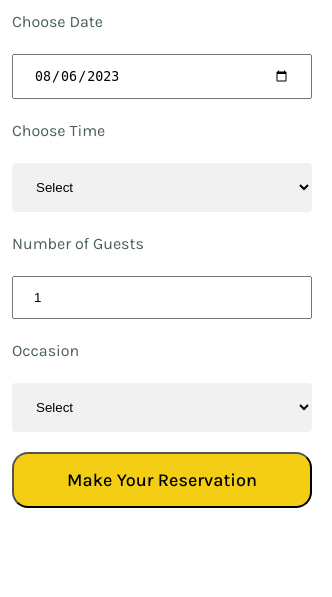
Test: Booking Form › should display an error message and disable sumbit button when number of     guests field's value is empty
The width and height of the screenshot is (332, 597).
Clear the number field labelled "Number of Guests" at [162, 298], box 12,276 -> 312,319
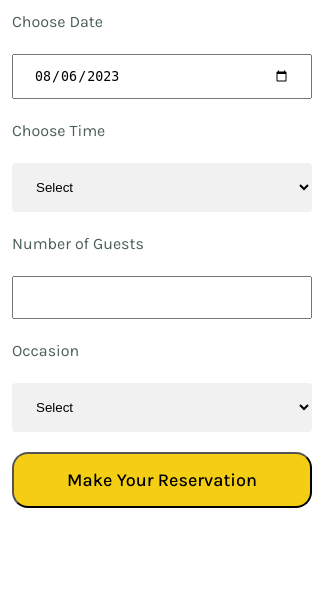
Leave the number field labelled "Number of Guests", box 12,276 -> 312,319
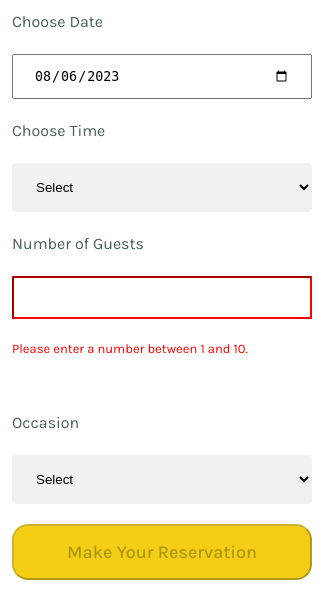
Expected: the text with test id "error-res-guests" shows "Please enter a number between 1 and 10", 12,341 -> 248,356
Expected: the button is disabled, 12,524 -> 312,580
